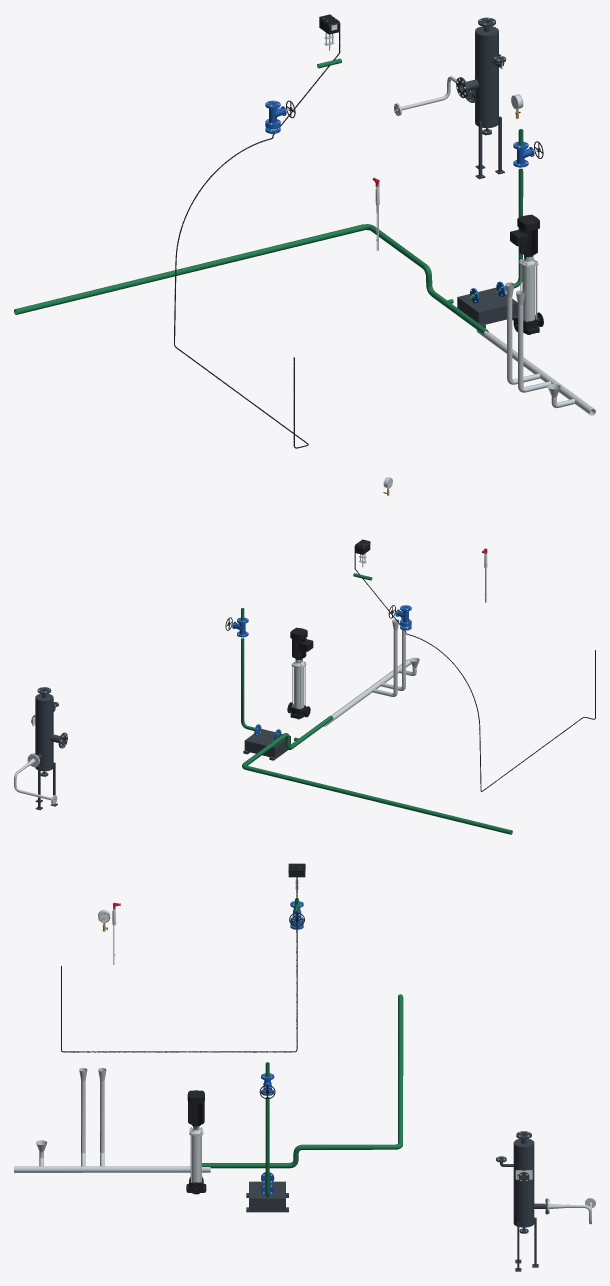
3 renders of one model, top to bottom at view 1: azimuth 30°, elevation 25°; view 2: azimuth 150°, elevation 25°; view 3: azimuth 270°, elevation 25°, orthographic. The views are drawn at different scales.
Parts seen in each view (by area): view 1: separator_fv8 / dark, suction_common / green, local_open_drains / steel, mod_eco_drive / black, pump_branch_2 / dark, pump_1 CAD solid 15, pump_1 CAD solid 2, pump_branch_2 / green; view 2: suction_common / green, separator_fv8 / dark, local_open_drains / steel, mod_eco_drive / black, pump_branch_2 / dark, pump_1 CAD solid 15, pump_branch_2 / green; view 3: separator_fv8 / dark, local_open_drains / steel, suction_common / green, mod_eco_drive / black, pump_branch_2 / dark, pump_1 CAD solid 15, pump_branch_2 / green.
Part boxes in pixels (x1,y1,x2,y2): separator_fv8 / dark: (456,17,506,179); suction_common / green: (14,224,488,335); local_open_drains / steel: (476,282,595,415); mod_eco_drive / black: (174,14,340,448); pump_branch_2 / dark: (457,287,517,328); pump_1 CAD solid 15: (510,214,539,256); pump_1 CAD solid 2: (522,266,535,321); pump_branch_2 / green: (447,129,523,303); suction_common / green: (242,715,512,834); separator_fv8 / dark: (31,687,67,810); local_open_drains / steel: (323,617,419,726); mod_eco_drive / black: (354,539,595,791); pump_branch_2 / dark: (243,729,290,760); pump_1 CAD solid 15: (290,627,313,659); pump_branch_2 / green: (241,608,298,740); separator_fv8 / dark: (496,1131,547,1271); local_open_drains / steel: (14,1068,210,1172); suction_common / green: (202,994,403,1168); mod_eco_drive / black: (61,863,305,1052); pump_branch_2 / dark: (246,1181,288,1212); pump_1 CAD solid 15: (187,1090,204,1125); pump_branch_2 / green: (265,1062,269,1197).
Size of the model in its own units: 5.91 by 3.24 by 6.13.
